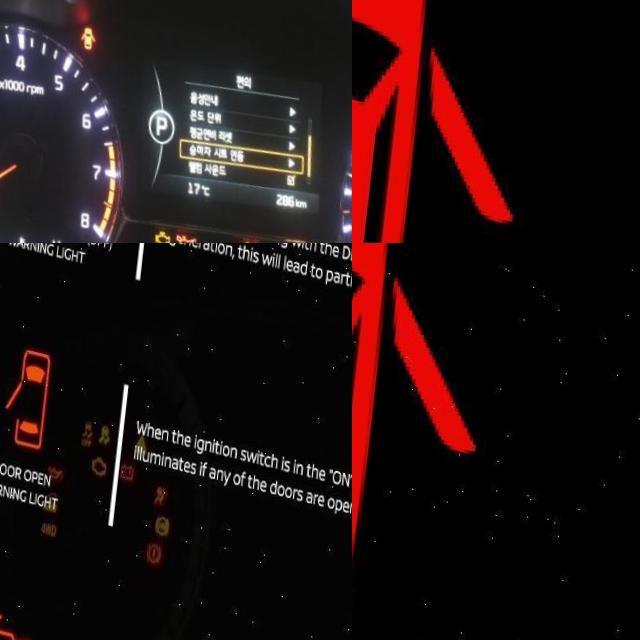Doors: (84, 12, 103, 40)
